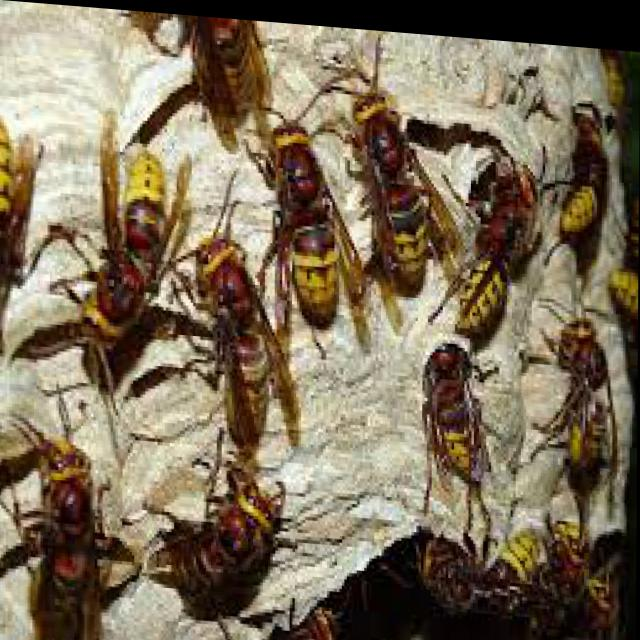Vespa Crabro: (153, 413, 304, 622), (93, 93, 209, 336), (327, 49, 445, 285), (189, 214, 303, 439), (266, 91, 361, 350), (16, 410, 119, 635), (409, 483, 576, 610), (541, 276, 625, 486), (459, 135, 530, 326), (423, 326, 499, 499), (545, 97, 611, 229)
